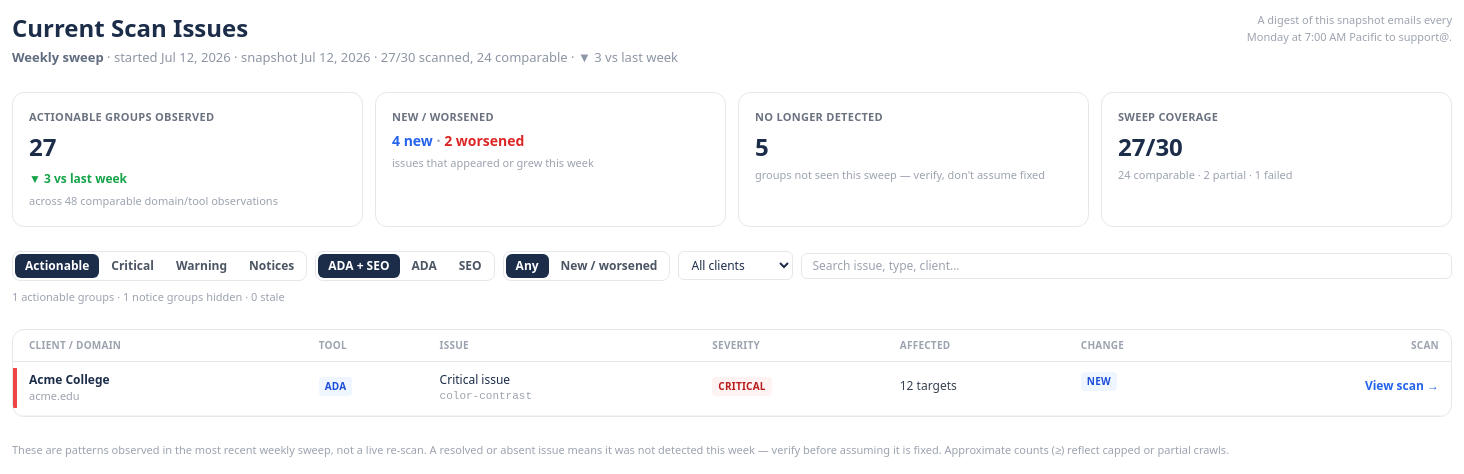
Test: IssuesView › Actionable is the default filter and hides notice-severity rows
The image size is (1464, 474).
Expected: the text "Critical issue" is shown, [440,371,510,388]
Expected: the text "Notice issue" is not shown
Switching to the Notices segment surfaces it
Click the button "Notices": point(272, 266) [239,254,304,278]
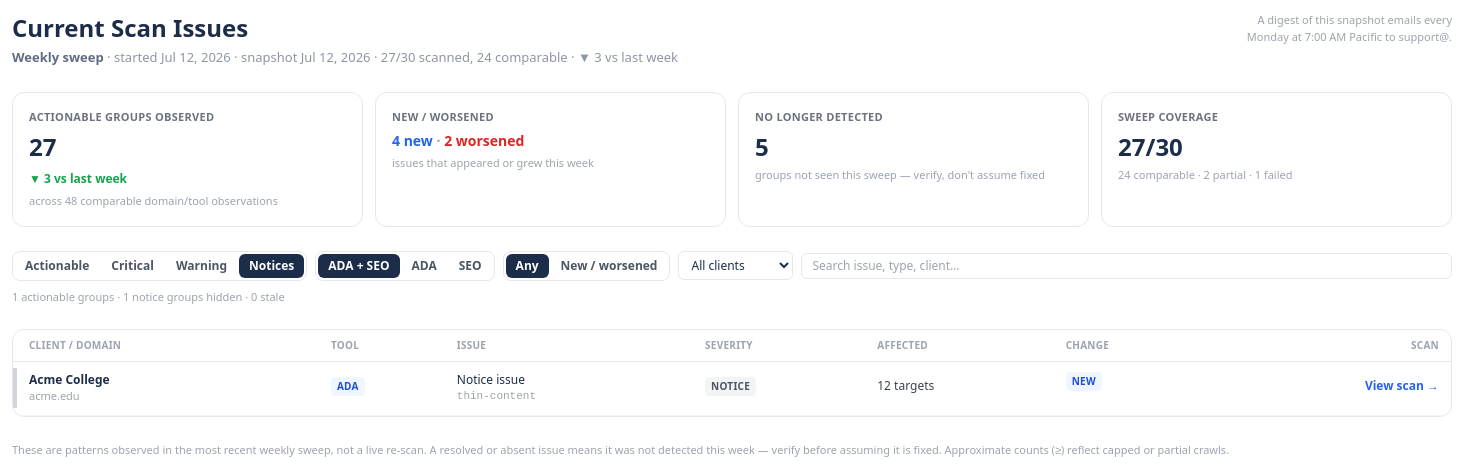
Expected: the text "Notice issue" is shown, [457,371,525,388]
Expected: the text "Critical issue" is gone
